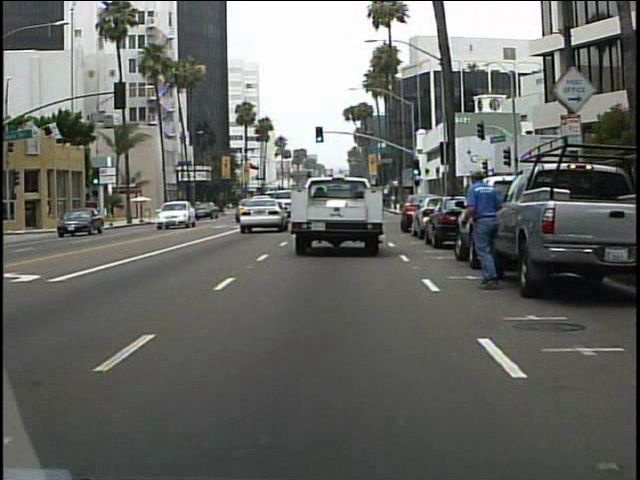person: (457, 165, 503, 288)
